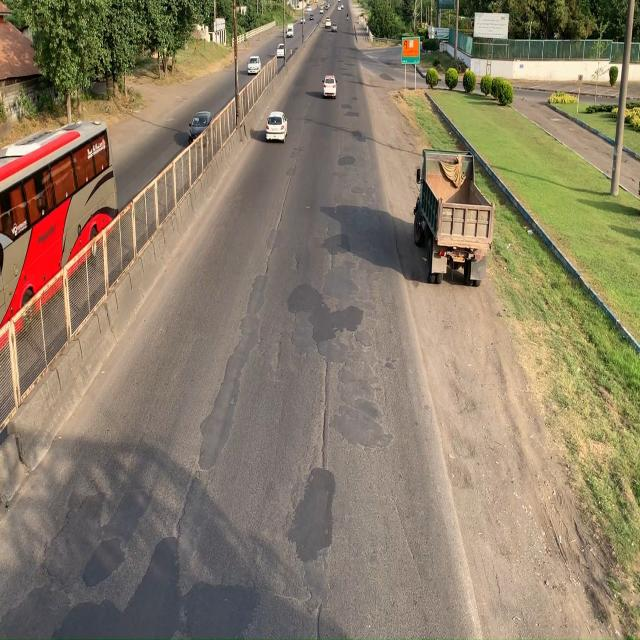Bus: (0, 126, 118, 351)
Truck: (414, 152, 498, 292)
